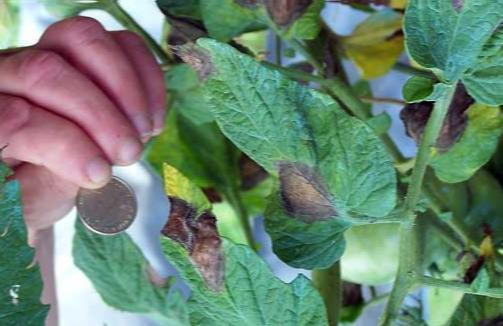Tomato leaf late blight: (163, 30, 411, 272), (146, 158, 336, 326), (391, 0, 503, 108)
